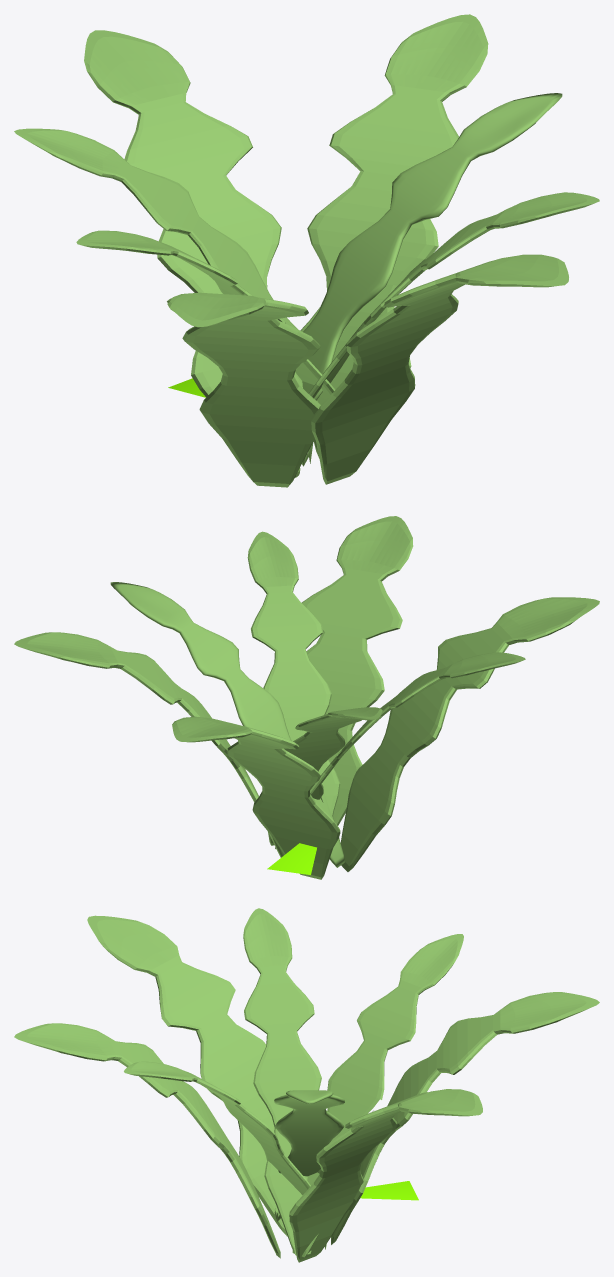
Rendered from Algue-7.gltf.
3 renders of one model, top to bottom at view 1: azimuth 30°, elevation 25°; view 2: azimuth 150°, elevation 25°; view 3: azimuth 270°, elevation 25°, orthographic. The views are drawn at different scales.
Parts seen in each view (by area): view 1: Default-01___Default; view 2: Default-01___Default, Default-04___Default; view 3: Default-01___Default, Default-04___Default.
Part boxes in pixels (x1=…): Default-01___Default: x1=14, y1=14, x2=599, y2=487; Default-01___Default: x1=14, y1=516, x2=599, y2=879; Default-04___Default: x1=267, y1=843, x2=316, y2=874; Default-01___Default: x1=14, y1=908, x2=599, y2=1262; Default-04___Default: x1=360, y1=1181, x2=418, y2=1200.
Bounding box in the file's own units: 95.01 × 54.17 × 116.
